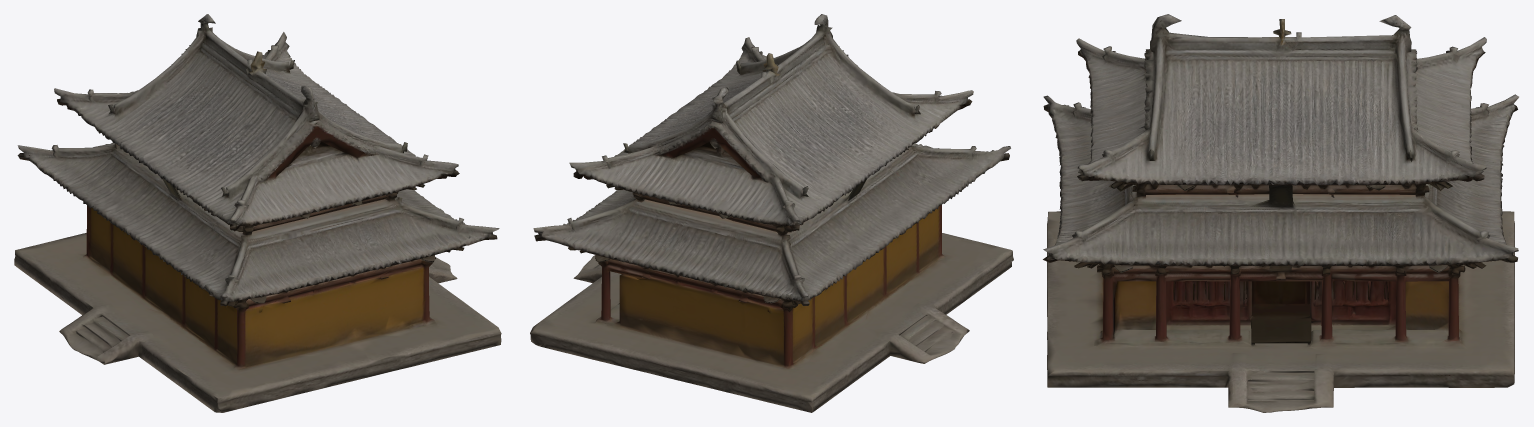
The model's file is building-foguangsi.glb.
3 renders of one model, left to right at view 1: azimuth 30°, elevation 25°; view 2: azimuth 150°, elevation 25°; view 3: azimuth 270°, elevation 25°, orthographic. The views are drawn at different scales.
Visible parts, largest first — view 1: node_d48c1c45-7a0e-4a4b-a355-abd4803bc004; view 2: node_d48c1c45-7a0e-4a4b-a355-abd4803bc004; view 3: node_d48c1c45-7a0e-4a4b-a355-abd4803bc004.
Boxes of the visible parts, x1,y1,x2,y2 form: node_d48c1c45-7a0e-4a4b-a355-abd4803bc004: [14, 14, 501, 412]; node_d48c1c45-7a0e-4a4b-a355-abd4803bc004: [530, 14, 1013, 412]; node_d48c1c45-7a0e-4a4b-a355-abd4803bc004: [1043, 14, 1518, 412].
Size of the model in its own units: 1 by 0.6632 by 0.9735.
1 material, 1 textured.
